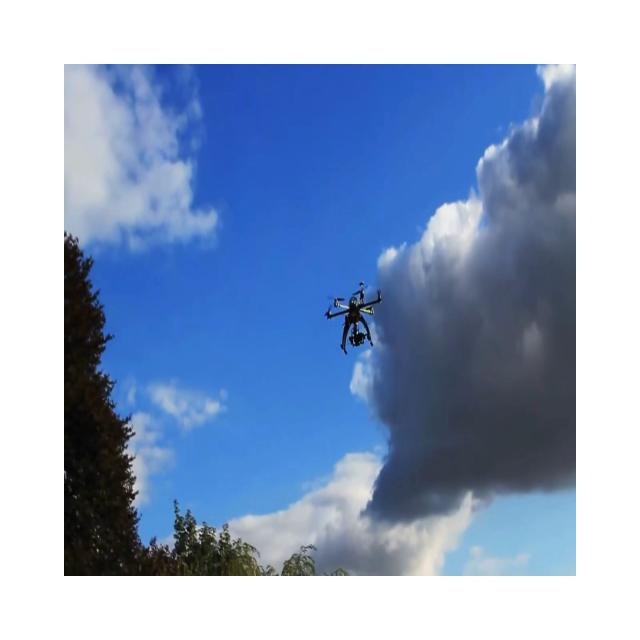drone: (324, 281, 382, 354)
